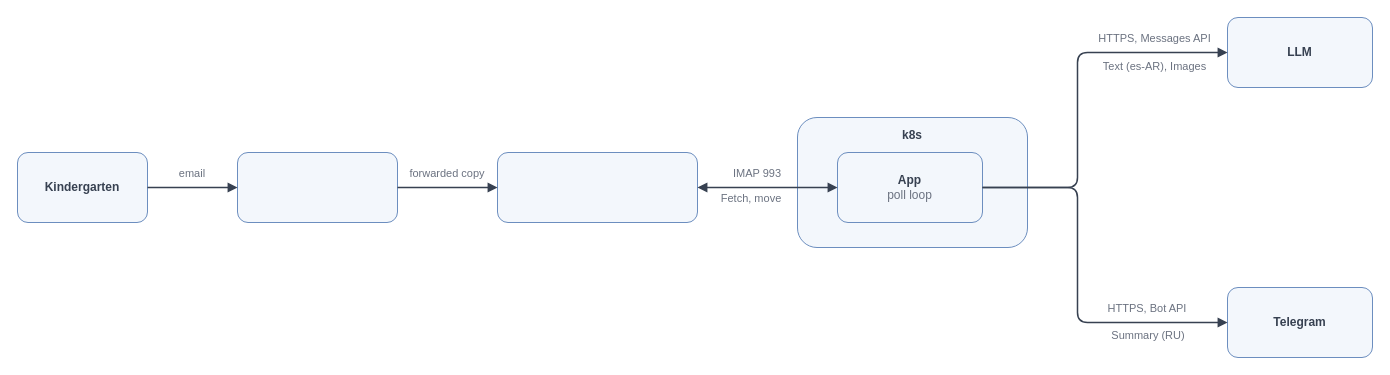
This 1390x375 diagram has some shape labels left out. The centre of each missing label's shape, as x and y in pixels:
"Dedicated Gmail INBOX, Processed, Ignored, Failed" belongs at point (597, 187).
"Personal Gmail forwarding filter" belongs at point (317, 187).
